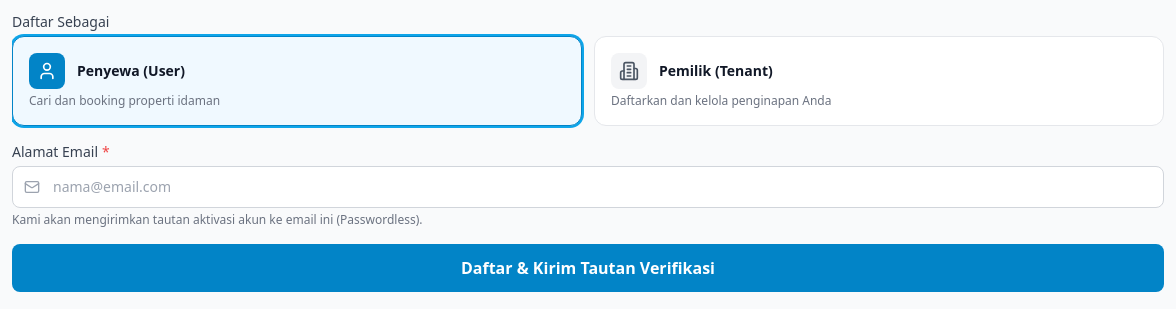
Scenario: Identity Form Organisms › renders success state in RegisterForm after submission
Step 1. Type "host@test.com" into the field labelled "Alamat Email*" → {"x": 588, "y": 187}, box [12, 166, 1164, 208]
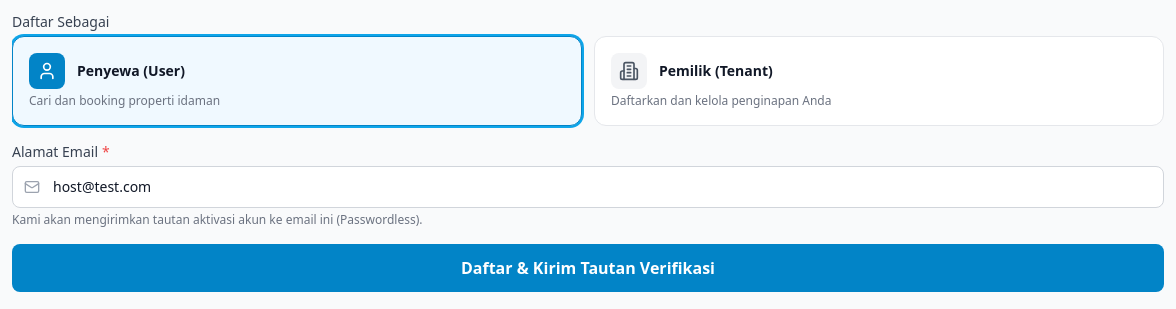
Step 2. Click the button "Daftar & Kirim Tautan Verifikasi" → {"x": 588, "y": 268}, box [12, 244, 1164, 292]
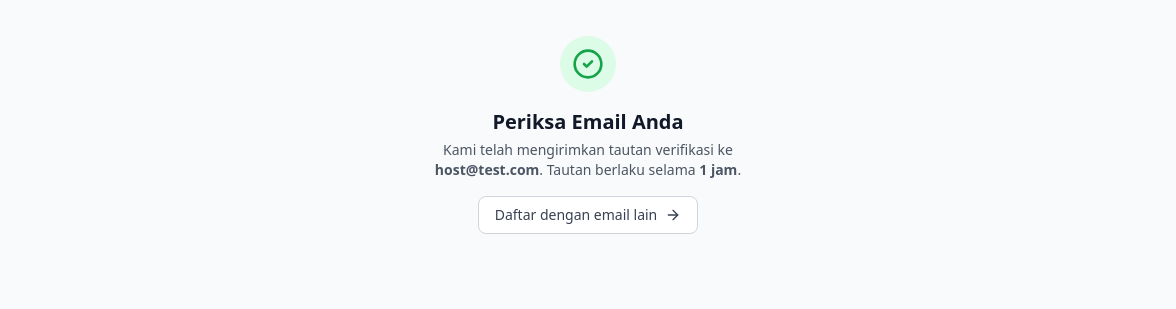
Expected: the heading "Periksa Email Anda" is shown, [492, 108, 684, 135]
Expected: the text "host@test.com" is shown, [435, 160, 539, 179]
